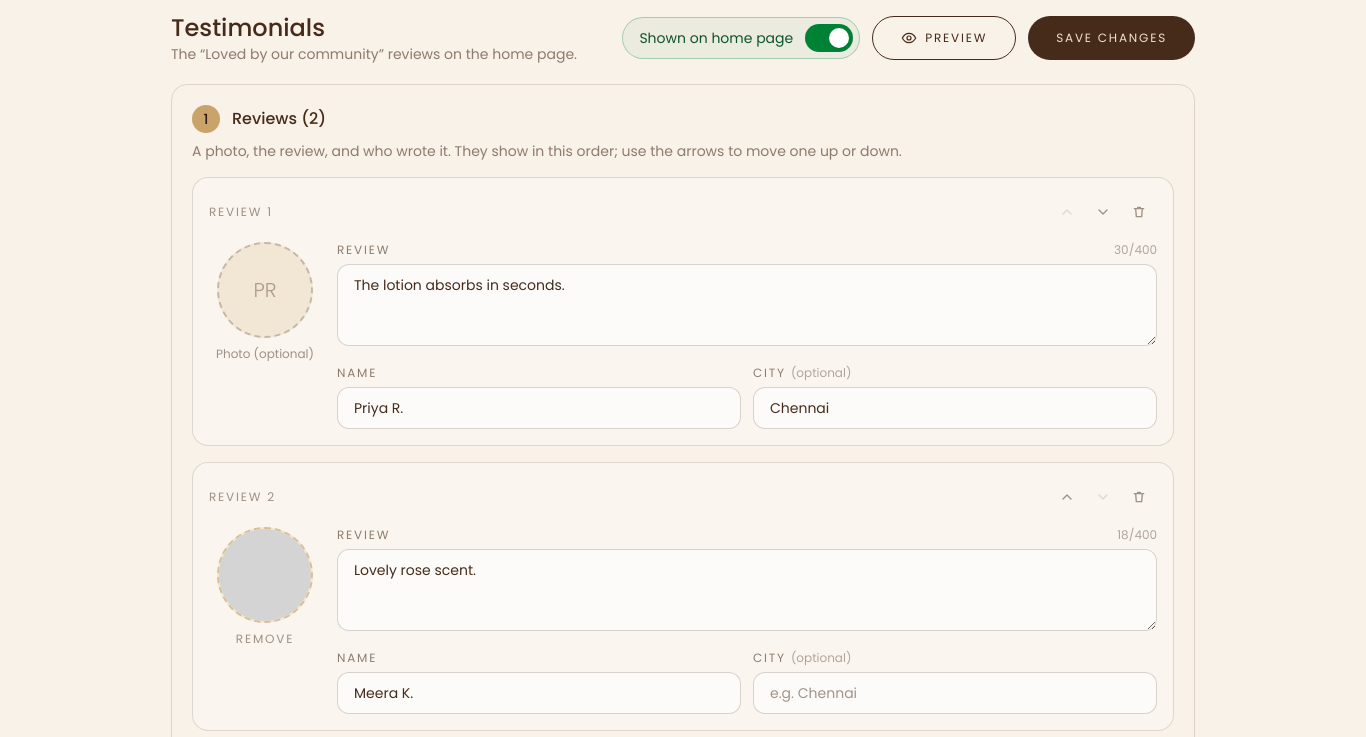
Test: TestimonialsForm › saving sends the reviews and says the home page is updated
In the 2nd field labelled "Name": (539,693) [337,672,741,714], type " Iyer"
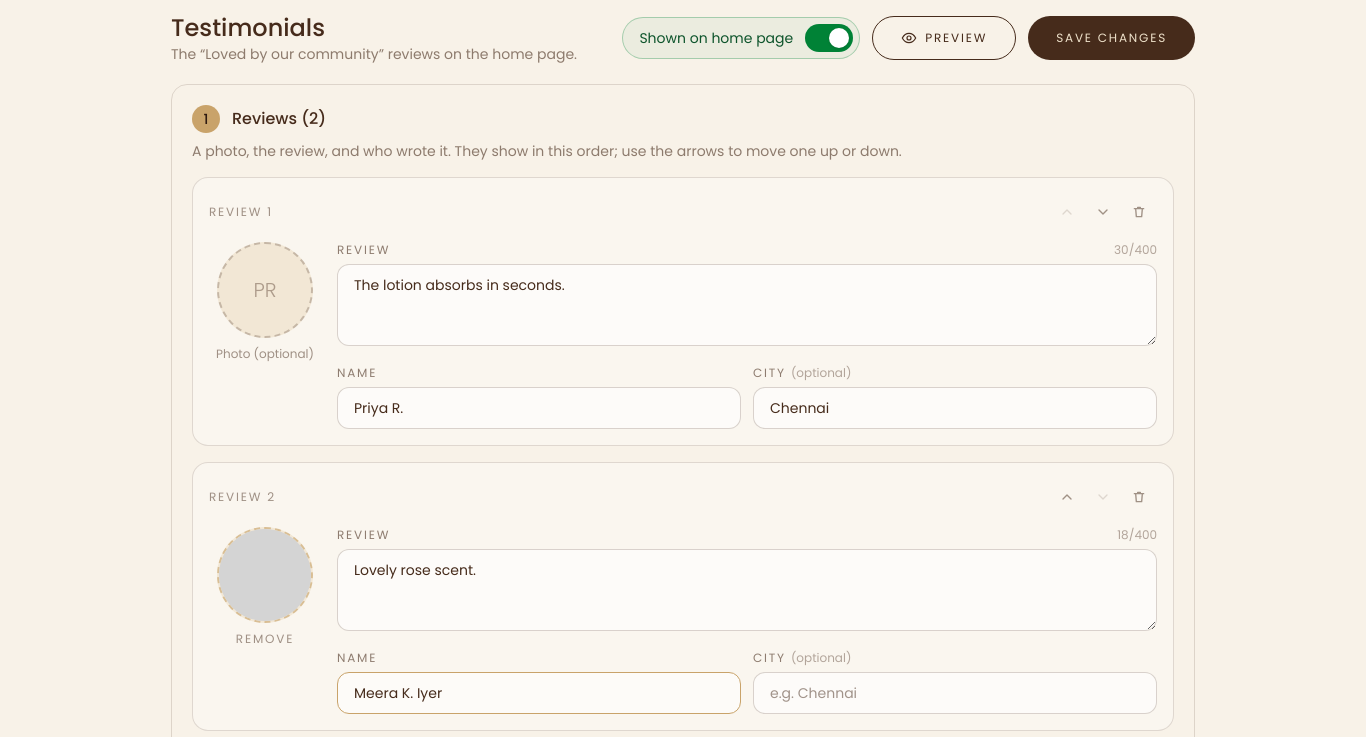
Click the button "Save changes": (1112,38) [1028,16,1195,60]
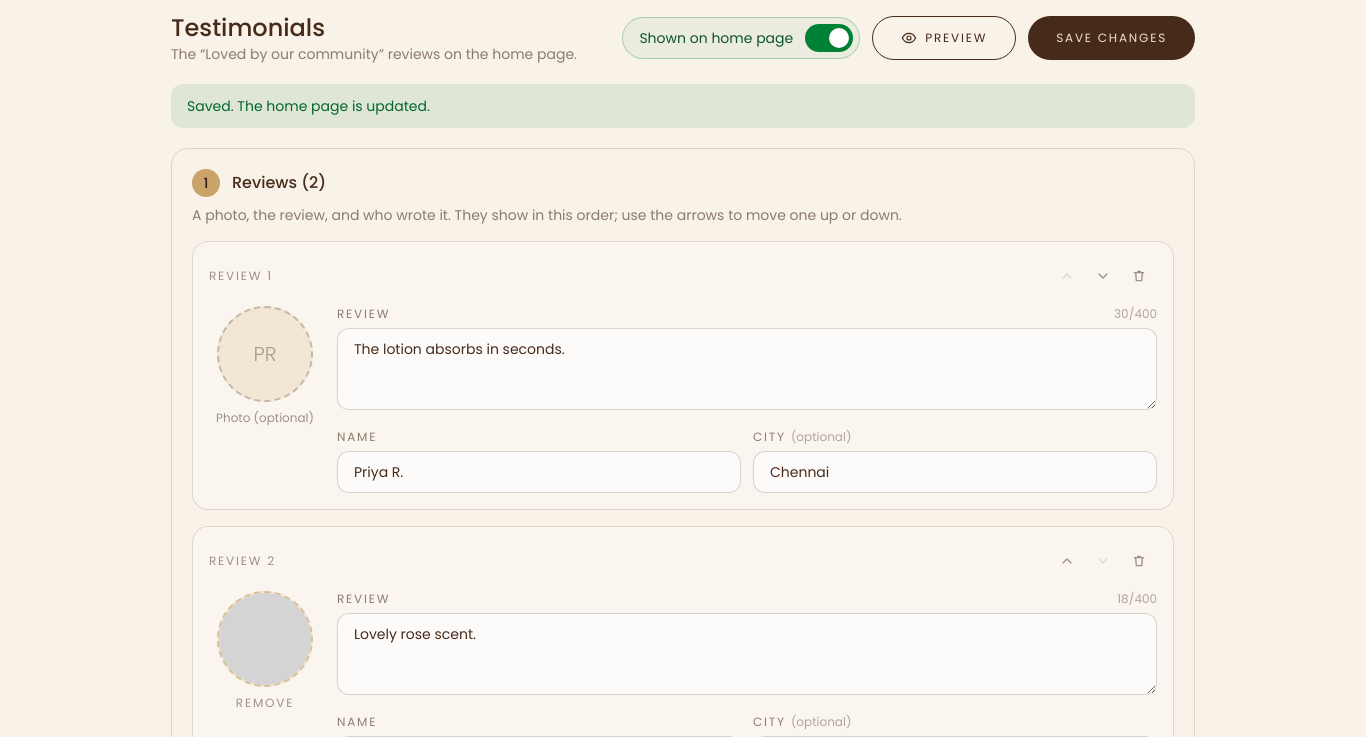
Expected: the message reads "Saved. The home page is updated.", [187,96,430,116]
